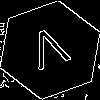V: (25, 25, 76, 80)
